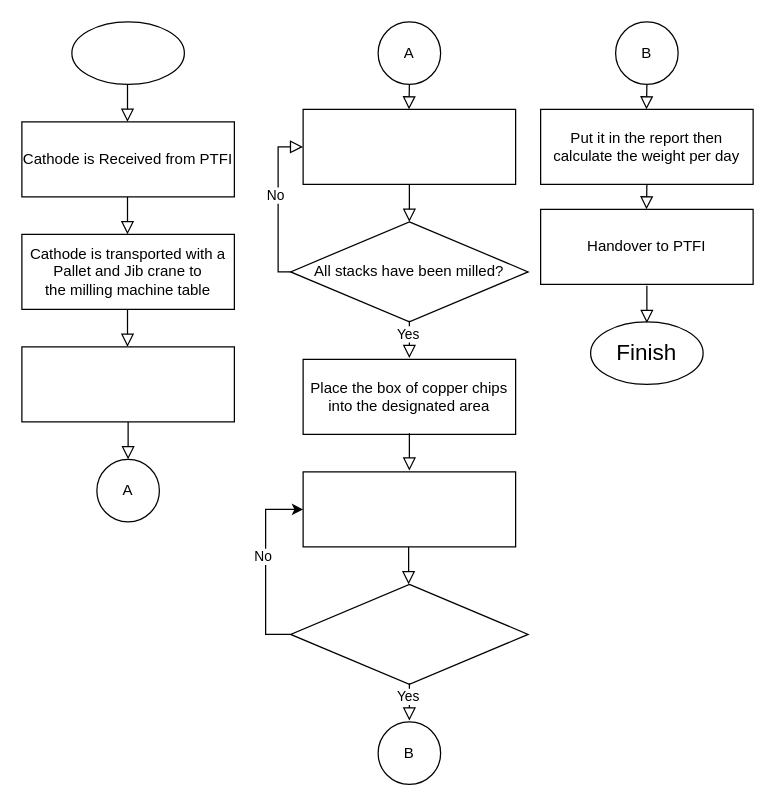
The diagram is 775 pixels wide and 806 high, and some of its shapes have lost their labels. Each missing label, with the box of its shape:
All 4 Cathodes is milled untill all of them are turned into copper chips: (302, 108, 516, 184)
All area have been clean?: (289, 583, 528, 684)
Cathode is stacked into 4 stacks on top of the milling table: (21, 346, 234, 422)
Clean the area where the milling process is done.: (302, 471, 516, 547)
Start: (71, 21, 184, 84)
